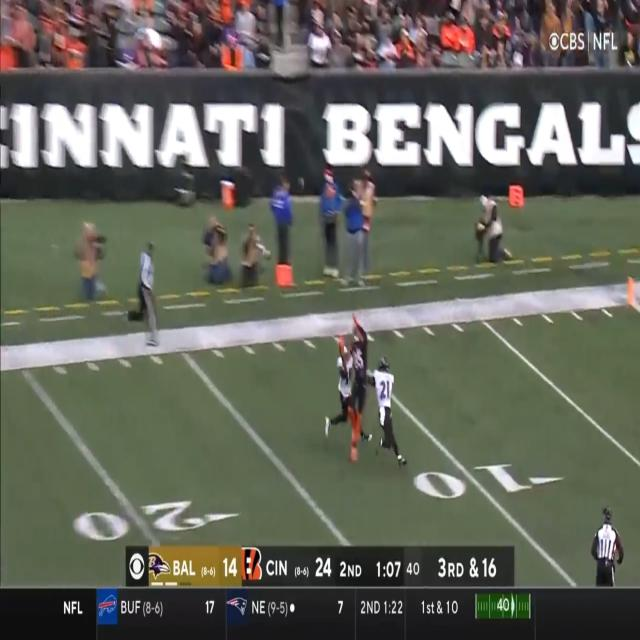Ball: (296, 174, 307, 191)
